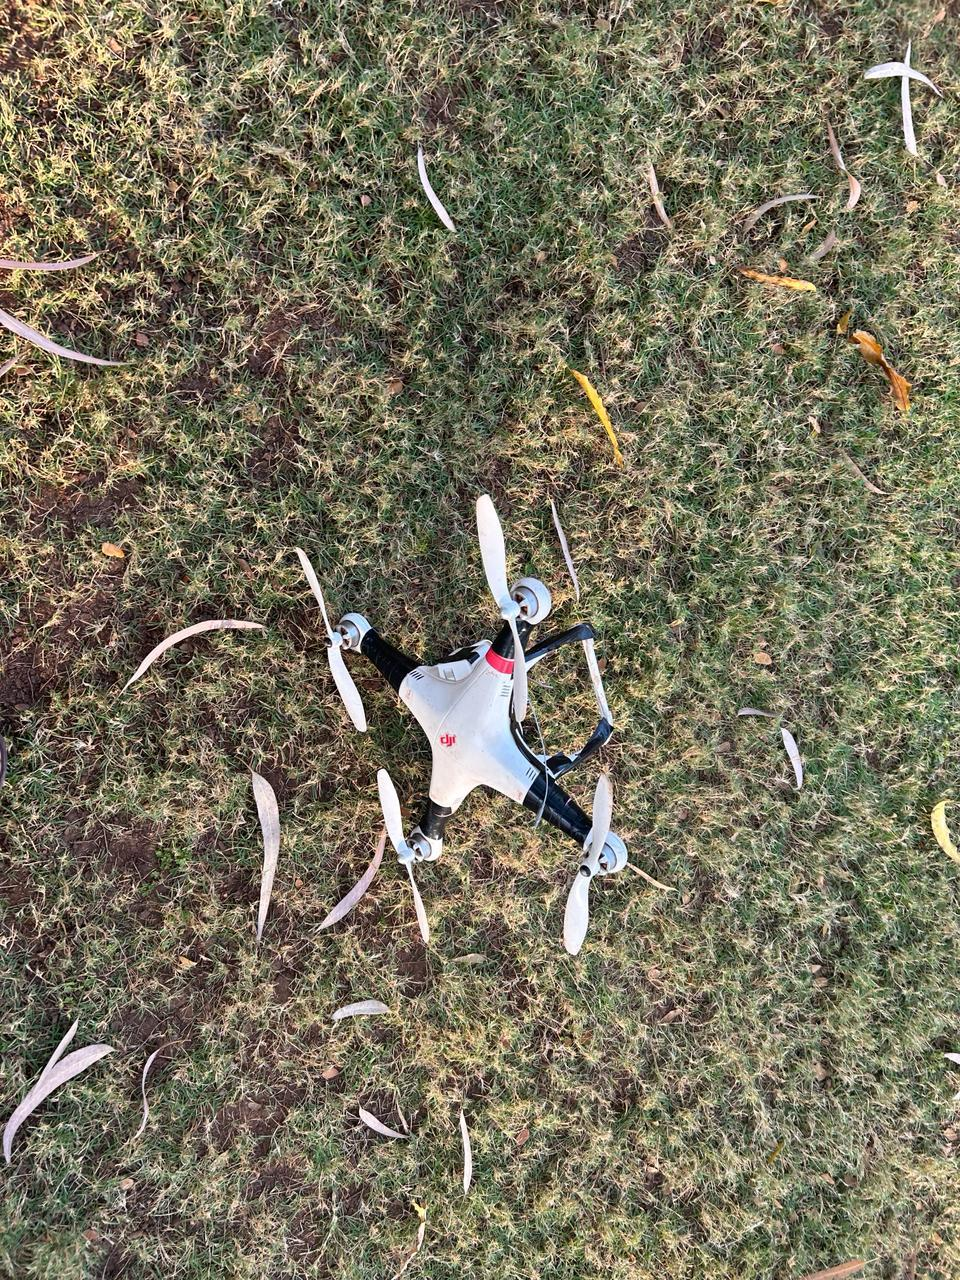drone: (201, 481, 797, 983)
